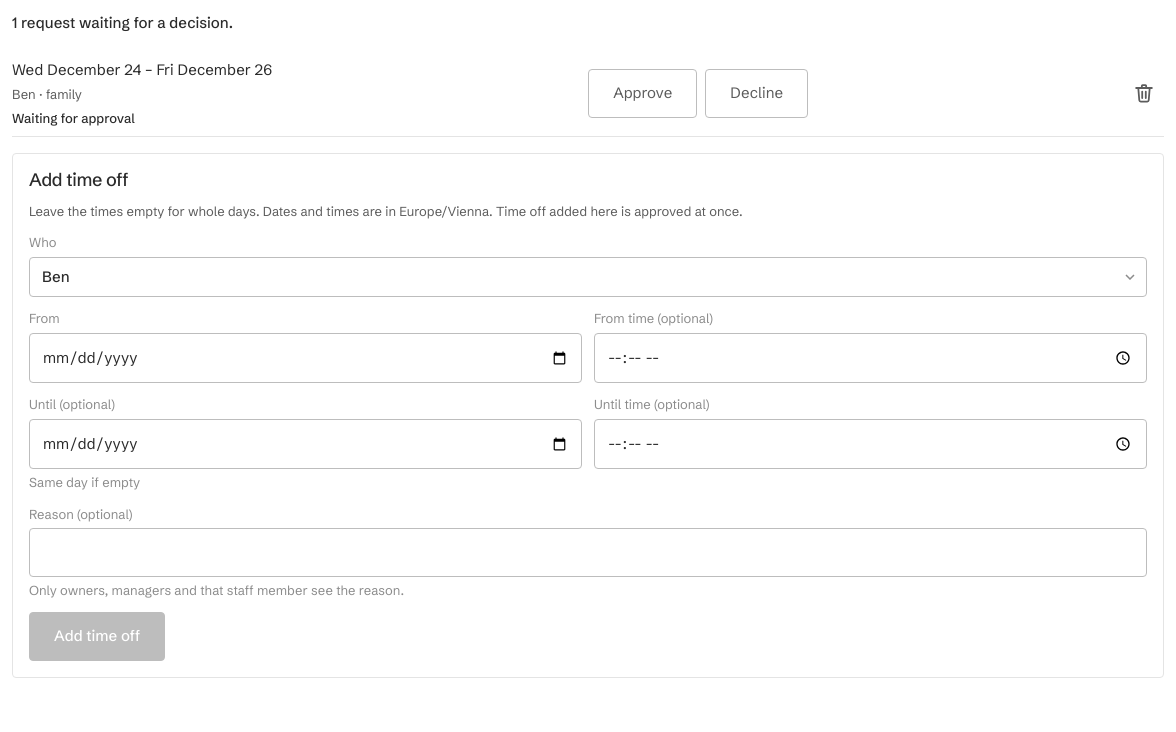
Test: TimeOff › lets owners and managers approve a request, and says what it overlaps
Expected: the text "1 request waiting for a decision." is shown, [12,13,233,32]
Step 1. Click the button "Approve" → x=643, y=93, box [588,69,697,118]
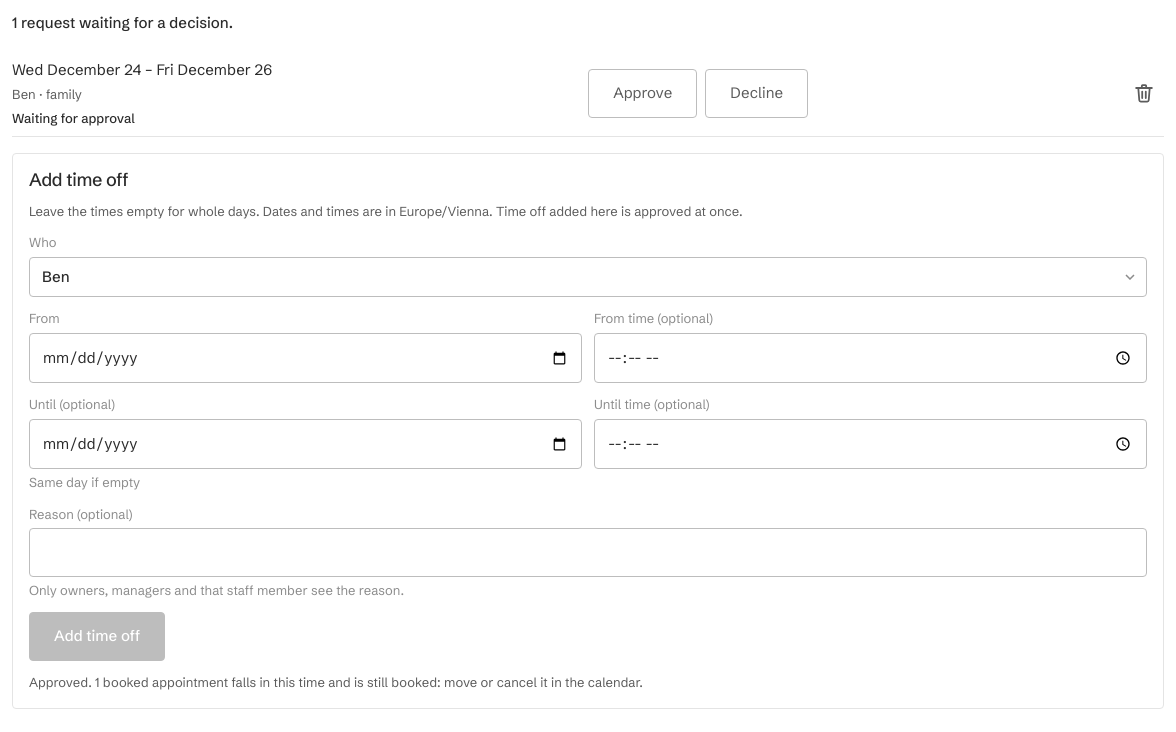
Now the text "Approved. 1 booked appointment falls in this time" is shown, box [29,674,643,690]
